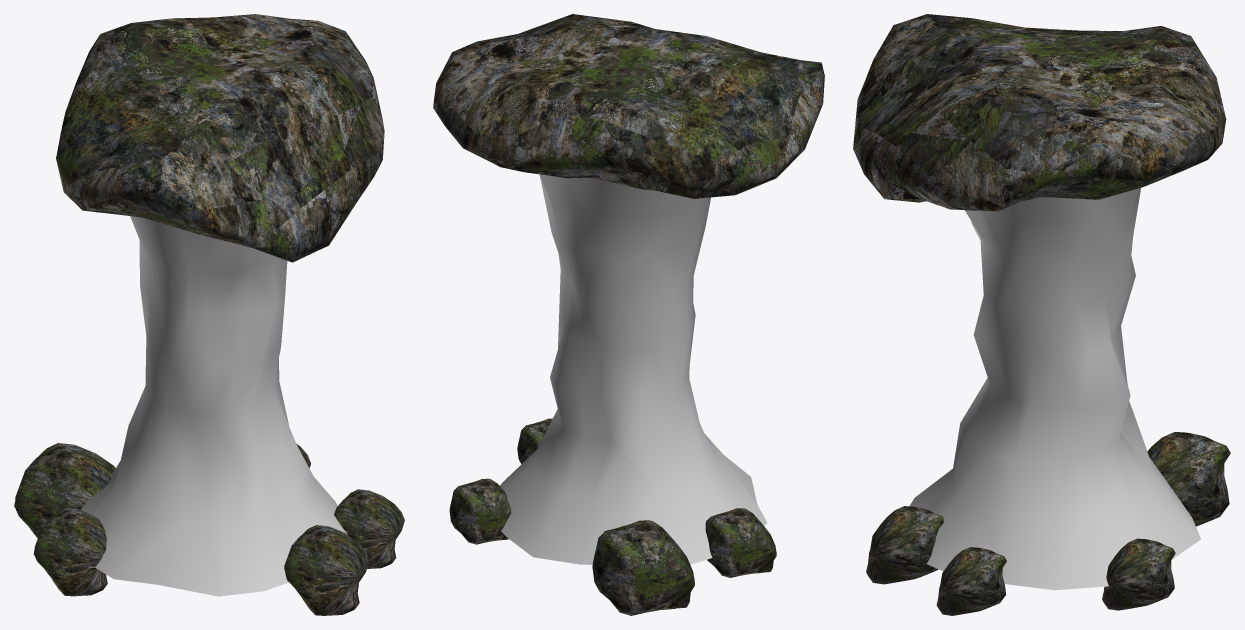
Rendered from Pillar.FBX.
3 renders of one model, left to right at view 1: azimuth 30°, elevation 25°; view 2: azimuth 150°, elevation 25°; view 3: azimuth 270°, elevation 25°, orthographic. The views are drawn at different scales.
Parts seen in each view (by area): view 1: GeoSphere002, Cylinder002, Stone002, Stone, Stone001, Stone003; view 2: Cylinder002, GeoSphere002, Stone, Stone001, Stone004, Stone003; view 3: Cylinder002, GeoSphere002, Stone, Stone002, Stone004, Stone003.
Boxes of the visible parts, x1,y1,x2,y2 form: GeoSphere002: [56, 14, 384, 262]; Cylinder002: [80, 216, 347, 596]; Stone002: [284, 525, 369, 615]; Stone: [14, 443, 115, 538]; Stone001: [33, 508, 107, 596]; Stone003: [334, 489, 404, 568]; Cylinder002: [500, 174, 767, 564]; GeoSphere002: [433, 14, 824, 198]; Stone: [592, 520, 694, 615]; Stone001: [705, 508, 776, 577]; Stone004: [449, 478, 511, 544]; Stone003: [517, 418, 552, 463]; Cylinder002: [909, 188, 1200, 590]; GeoSphere002: [853, 14, 1226, 211]; Stone: [1147, 432, 1230, 526]; Stone002: [866, 506, 943, 584]; Stone004: [1102, 538, 1175, 610]; Stone003: [936, 547, 1006, 615].
Size of the model in its own units: 350 by 532 by 346.
